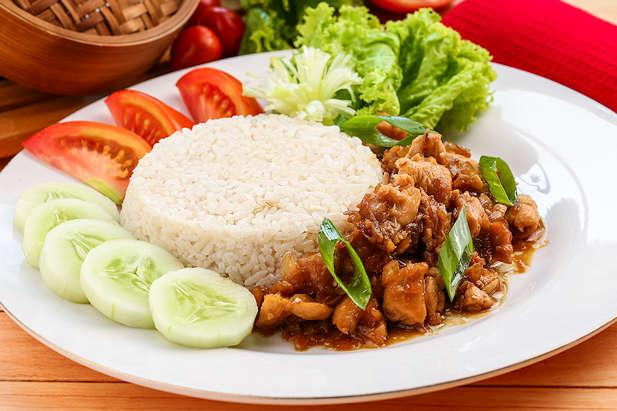buah_sayur_lainnya: (308, 35, 442, 118), (29, 199, 99, 269)
buah_sayur_vitA: (40, 127, 133, 172)
daging: (381, 162, 483, 310)
makanan_berpati: (174, 135, 324, 220)
